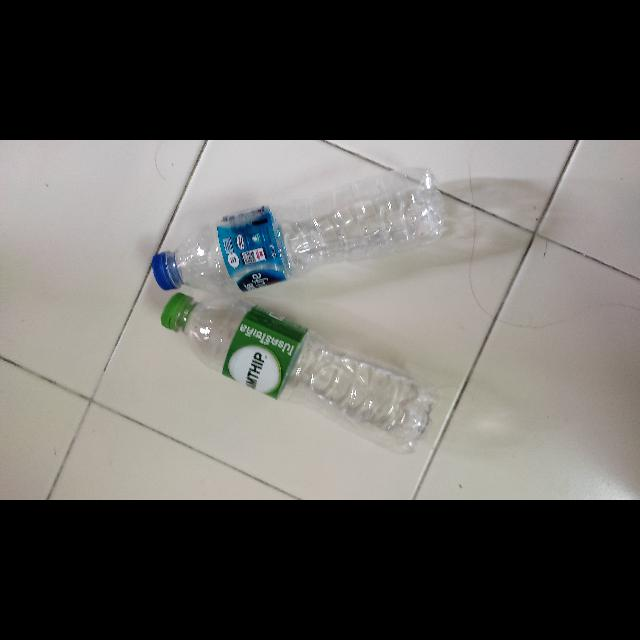plastic_bottle: (160, 290, 440, 454), (154, 162, 450, 296)
plastic_bottle_cap: (162, 292, 196, 334), (153, 247, 181, 291)
